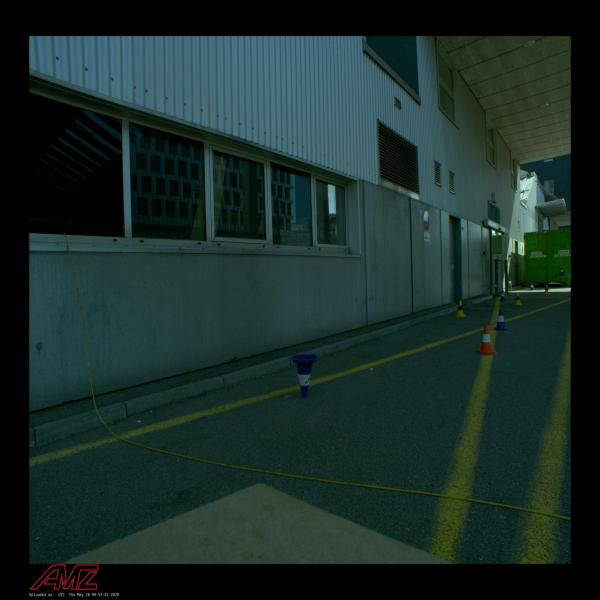blue_cone: (291, 354, 317, 398), (493, 309, 509, 331), (500, 290, 506, 301), (530, 283, 534, 290)
orange_cone: (476, 325, 497, 355)
yellow_cone: (456, 301, 465, 317), (514, 292, 522, 306), (543, 285, 550, 294)
